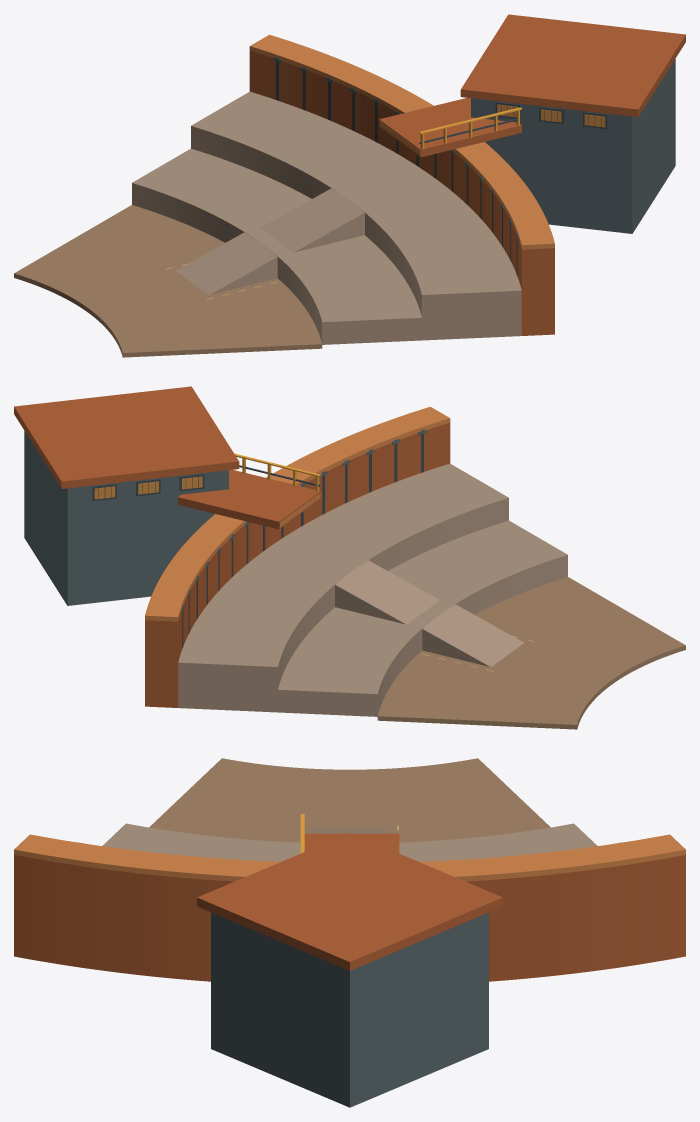
The model's file is c3-office-sector.glb.
3 views of the same model, one above another, from view 1: azimuth 30°, elevation 25°; view 2: azimuth 150°, elevation 25°; view 3: azimuth 270°, elevation 25° (orthographic). The views are drawn at different scales.
Visible parts, largest first — view 1: Court terrace 02, Visible fight floor cropped at r=16m, Court terrace 01, Office, exact 10 m mass, Office, exact 11 m roof cap, C3 wall, Painted wall frieze, Archived balcony slab, Archived second diagonal ramp, Archived first diagonal ramp; view 2: Court terrace 02, Visible fight floor cropped at r=16m, Court terrace 01, Office, exact 10 m mass, Office, exact 11 m roof cap, C3 wall, Painted wall frieze, Archived balcony slab, Archived second diagonal ramp, Archived first diagonal ramp; view 3: C3 wall, Office, exact 10 m mass, Visible fight floor cropped at r=16m, Office, exact 11 m roof cap, Painted wall frieze, Court terrace 01, Archived balcony slab.
Boxes of the visible parts, x1=… form: Court terrace 02: x1=191, y1=91, x2=521, y2=340; Visible fight floor cropped at r=16m: x1=14, y1=205, x2=322, y2=357; Court terrace 01: x1=132, y1=148, x2=421, y2=344; Office, exact 10 m mass: x1=471, y1=59, x2=675, y2=233; Office, exact 11 m roof cap: x1=460, y1=14, x2=685, y2=116; C3 wall: x1=249, y1=51, x2=554, y2=335; Painted wall frieze: x1=249, y1=34, x2=554, y2=249; Archived balcony slab: x1=379, y1=97, x2=521, y2=157; Archived second diagonal ramp: x1=260, y1=188, x2=364, y2=252; Archived first diagonal ramp: x1=176, y1=232, x2=277, y2=294; Court terrace 02: x1=178, y1=463, x2=508, y2=712; Visible fight floor cropped at r=16m: x1=377, y1=577, x2=685, y2=729; Court terrace 01: x1=278, y1=520, x2=567, y2=716; Office, exact 10 m mass: x1=24, y1=431, x2=228, y2=605; Office, exact 11 m roof cap: x1=14, y1=386, x2=239, y2=488; C3 wall: x1=145, y1=423, x2=450, y2=707; Painted wall frieze: x1=145, y1=406, x2=450, y2=621; Archived balcony slab: x1=178, y1=469, x2=320, y2=529; Archived second diagonal ramp: x1=335, y1=560, x2=439, y2=624; Archived first diagonal ramp: x1=422, y1=604, x2=523, y2=666; C3 wall: x1=14, y1=855, x2=685, y2=981; Office, exact 10 m mass: x1=211, y1=912, x2=488, y2=1107; Visible fight floor cropped at r=16m: x1=149, y1=758, x2=550, y2=842; Office, exact 11 m roof cap: x1=197, y1=833, x2=502, y2=970; Painted wall frieze: x1=14, y1=834, x2=685, y2=881; Court terrace 01: x1=102, y1=823, x2=597, y2=861; Archived balcony slab: x1=304, y1=833, x2=399, y2=853.
Bounding box in the file's own units: 42.66 × 8.75 × 34.17.
